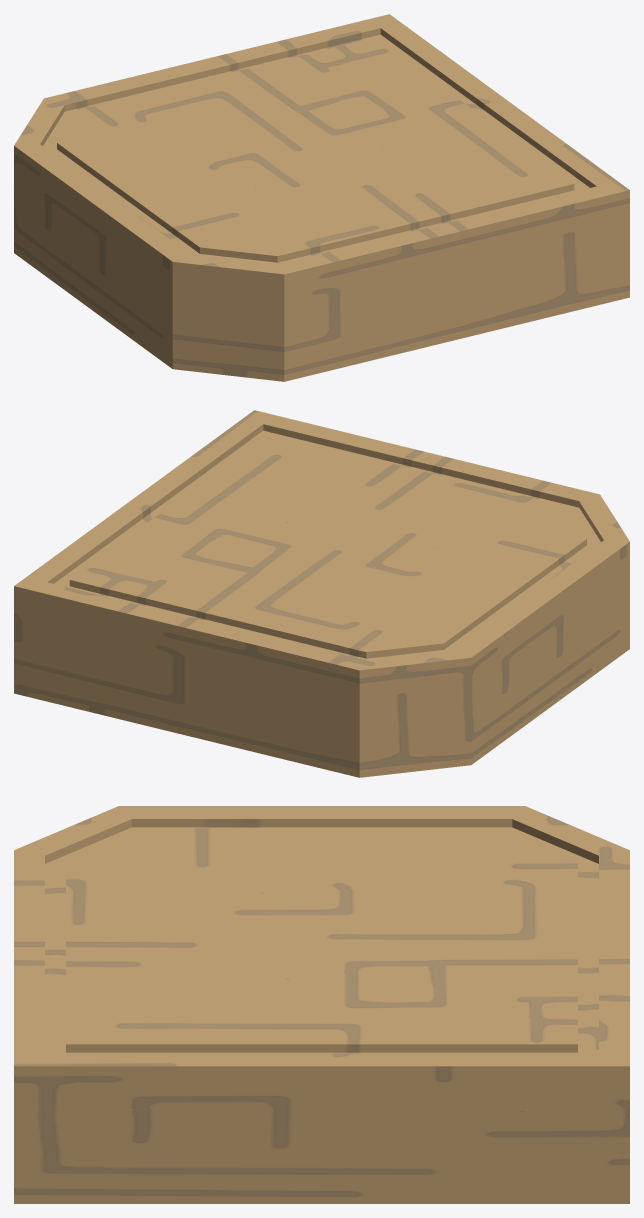
Rendered from Mesh_Platform2.glb.
3 renders of one model, top to bottom at view 1: azimuth 30°, elevation 25°; view 2: azimuth 150°, elevation 25°; view 3: azimuth 270°, elevation 25°, orthographic. The views are drawn at different scales.
Visible parts, largest first — view 1: Cube.038; view 2: Cube.038; view 3: Cube.038.
Boxes of the visible parts, box(x1,y1,x2,y2) form: Cube.038: box(14, 14, 629, 381); Cube.038: box(14, 410, 629, 777); Cube.038: box(14, 806, 629, 1203).
Size of the model in its own units: 28.4 by 7 by 28.4.
1 material, 1 textured.
